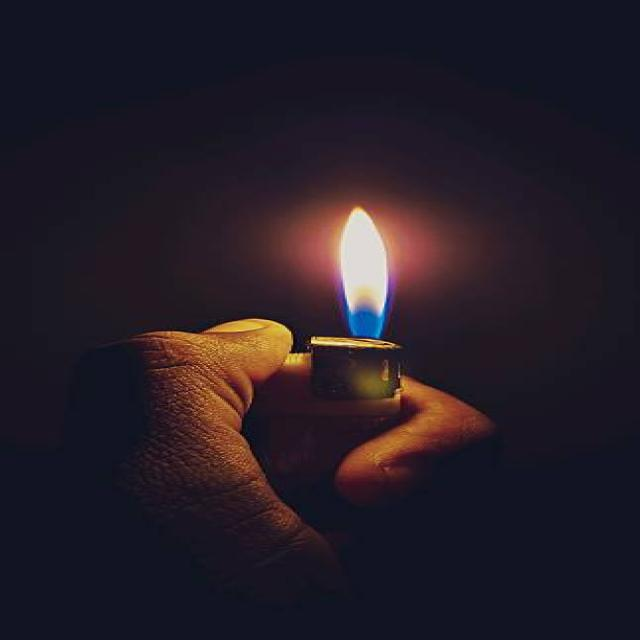fire: (339, 205, 390, 339)
